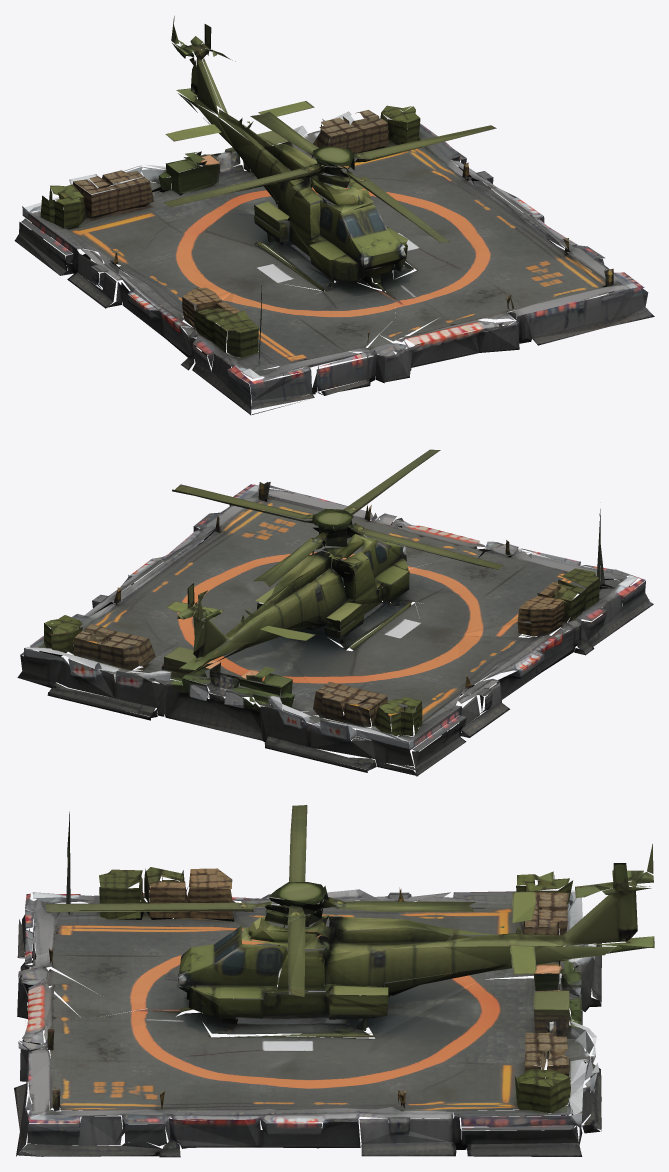
The model's file is helipad_def.glb.
3 views of the same model, one above another, from view 1: azimuth 30°, elevation 25°; view 2: azimuth 150°, elevation 25°; view 3: azimuth 270°, elevation 25° (orthographic). The views are drawn at different scales.
Parts seen in each view (by area): view 1: world.308; view 2: world.308; view 3: world.308.
Boxes of the visible parts, x1,y1,x2,y2 form: world.308: [14, 16, 654, 415]; world.308: [17, 449, 653, 776]; world.308: [14, 805, 654, 1157].
Bounding box in the file's own units: 0.8736 × 0.3365 × 1.
Materials: 1 (1 with a texture image).
